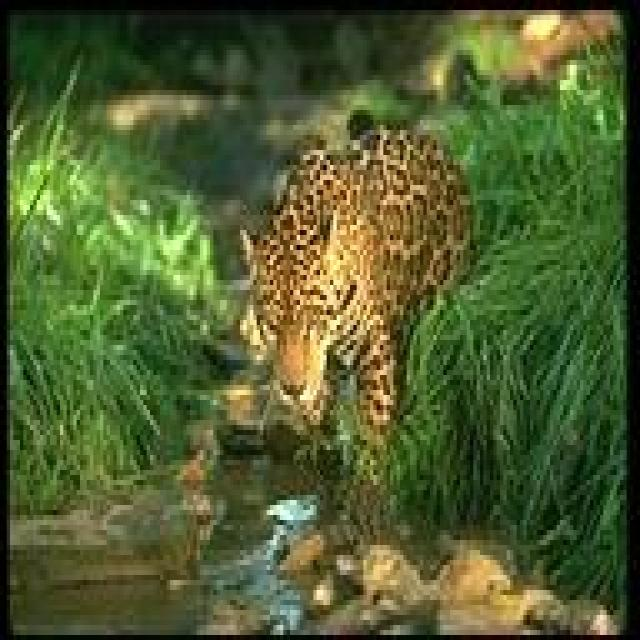Leopard: (234, 110, 480, 503)
